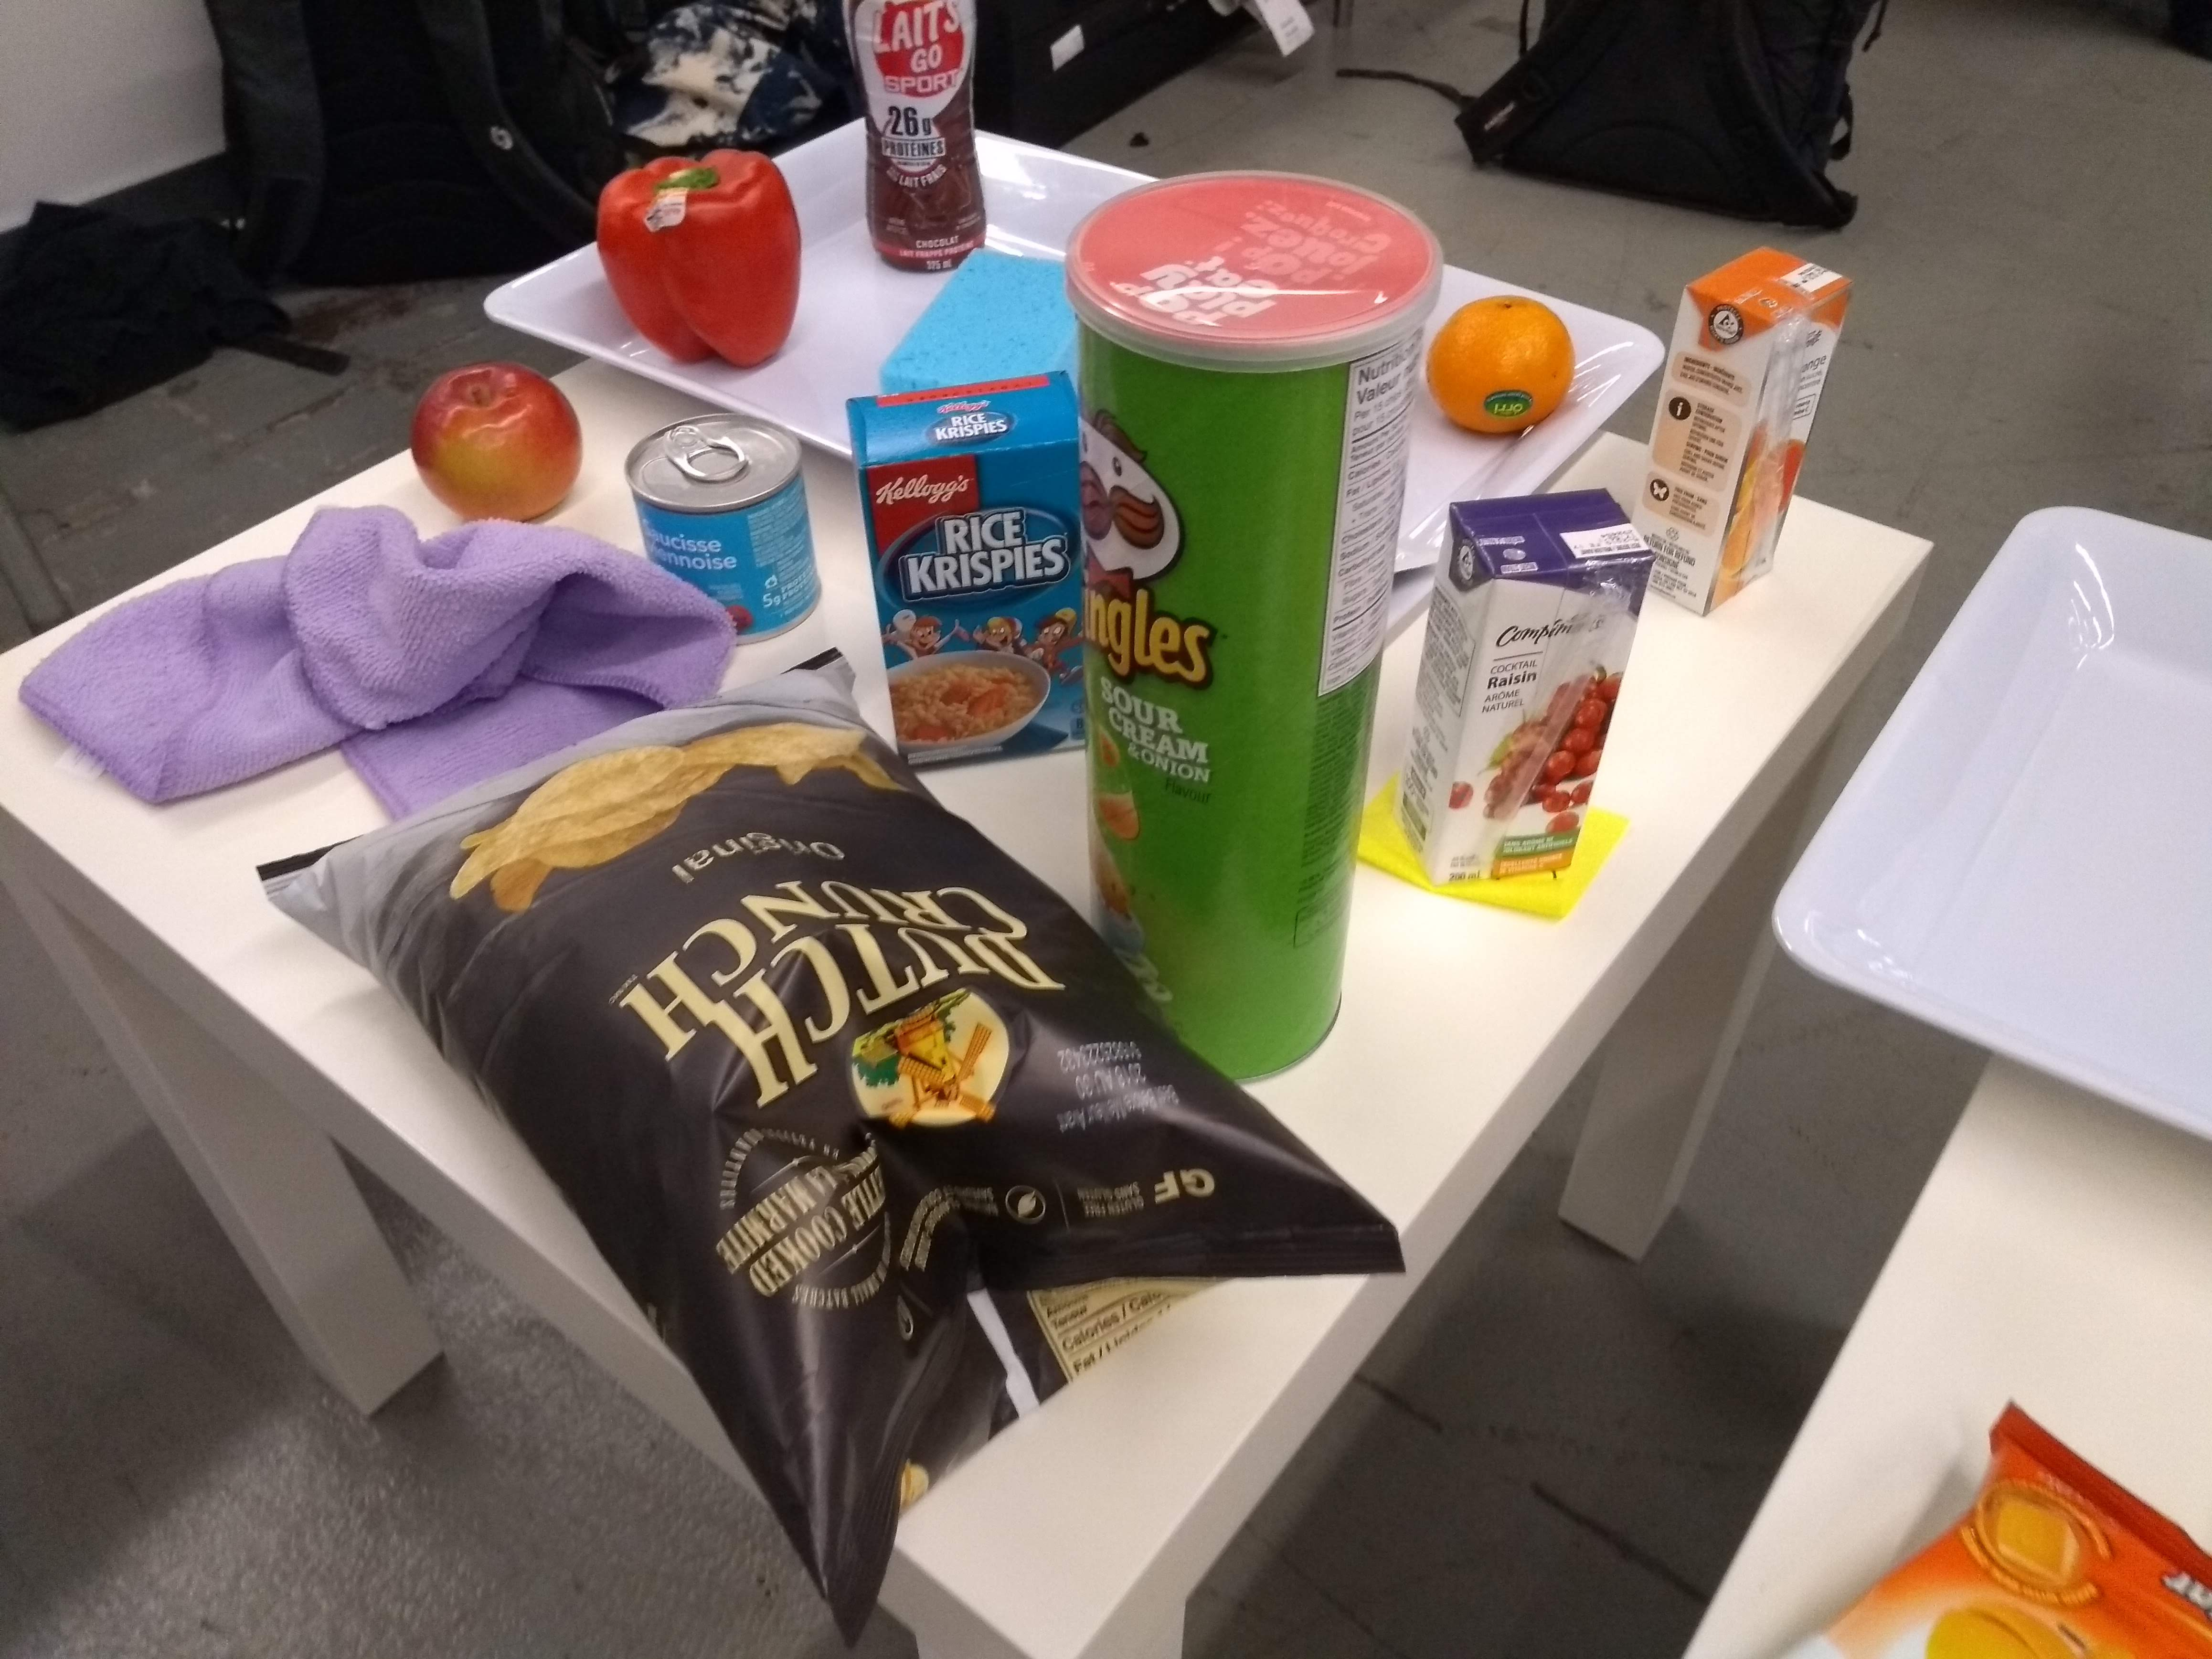apple: (404, 354, 590, 535)
cereal: (841, 364, 1099, 774)
chocolate_drink: (834, 0, 989, 284)
grape_juice: (1393, 477, 1662, 892)
orange: (1420, 275, 1585, 451)
orange_juice: (1622, 234, 1865, 624)
paprika: (590, 148, 813, 380)
potato_chips: (242, 629, 1402, 1652)
pringles: (1064, 162, 1454, 1098)
sausages: (624, 406, 831, 655)
